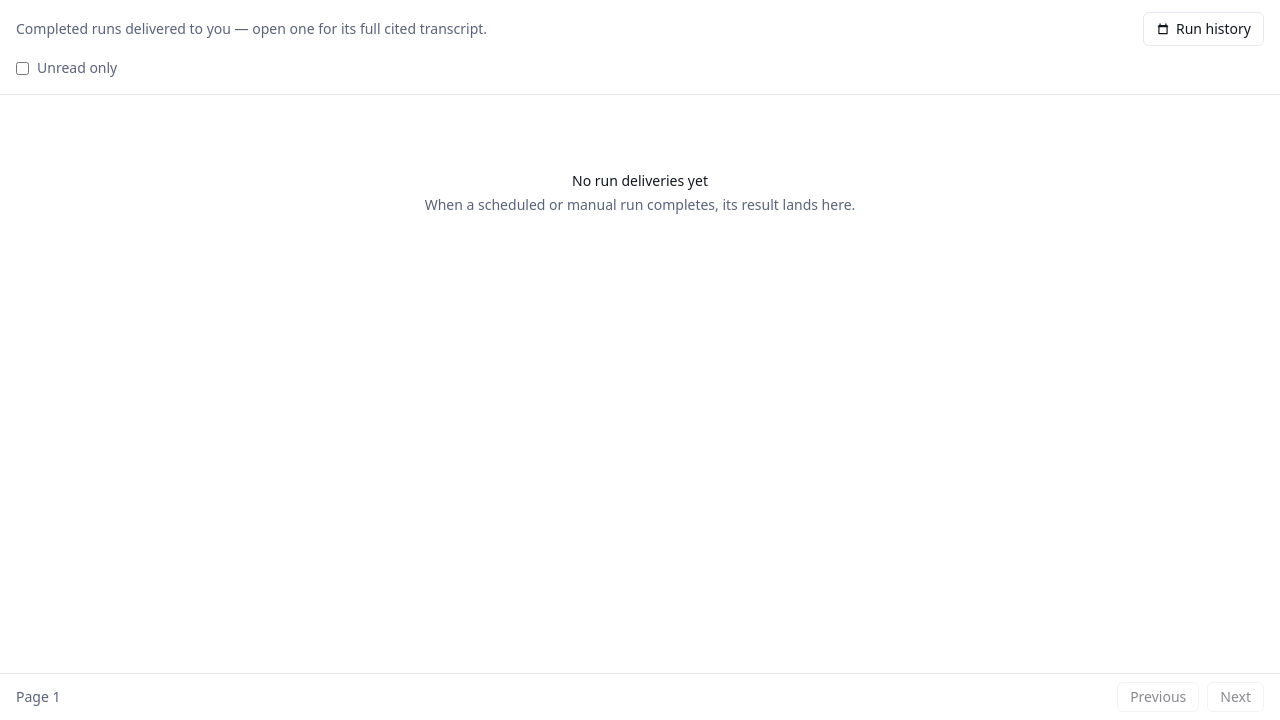
it: RunInbox › shows the caught-up empty state under the unread filter
The width and height of the screenshot is (1280, 720).
Check: the text "No run deliveries yet" is shown, box [572,171,708,190]
Click the checkbox labelled "Unread only" at x=22, y=68, box [16,62,29,74]
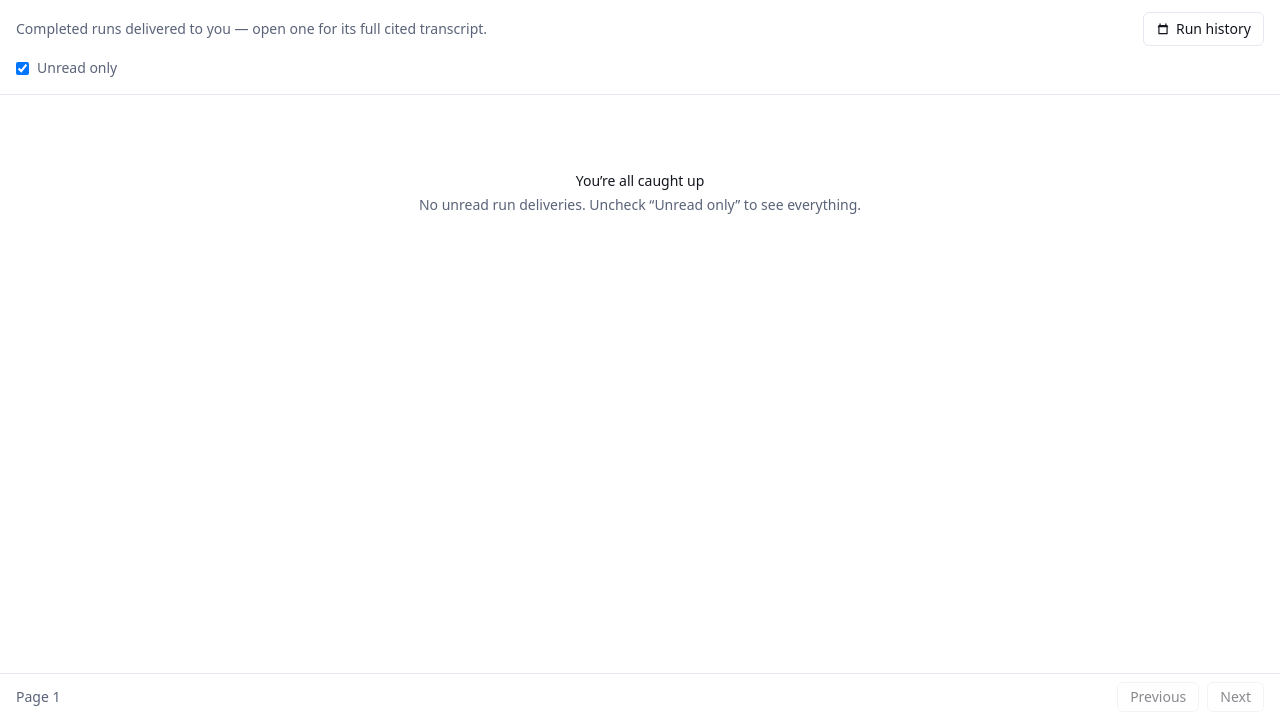
Check: the text "You’re all caught up" is shown, box [576,171,704,190]
